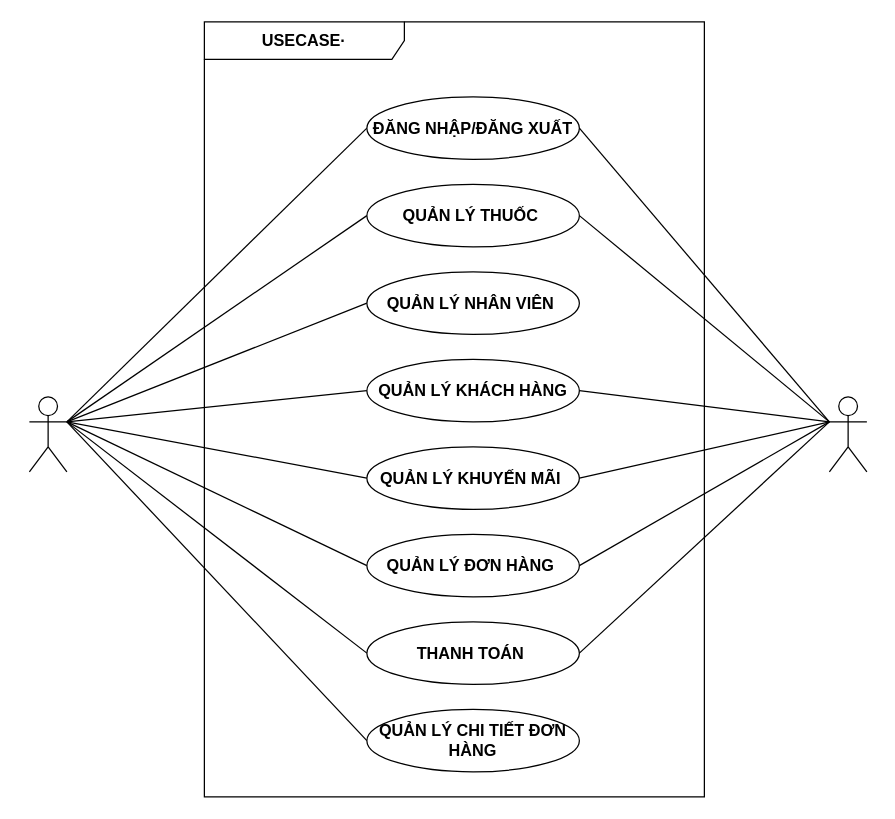
Image size: 895x819. Some labels were removed from this diagram. The shapes that lost their labels are listed below. From the top down, each one's centre as x and y in pixels, then its label:
pixel 47 434: ADMIN
pixel 847 434: STAFF
